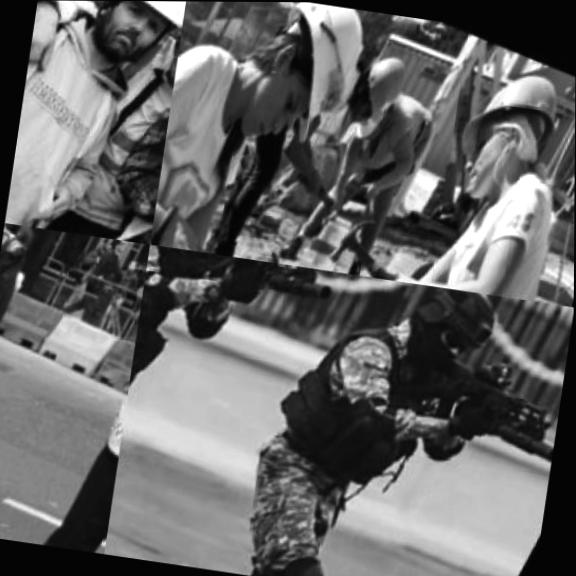safety_vest: (247, 301, 473, 520), (4, 0, 154, 239), (37, 12, 181, 243), (132, 245, 236, 394), (0, 223, 29, 398)
